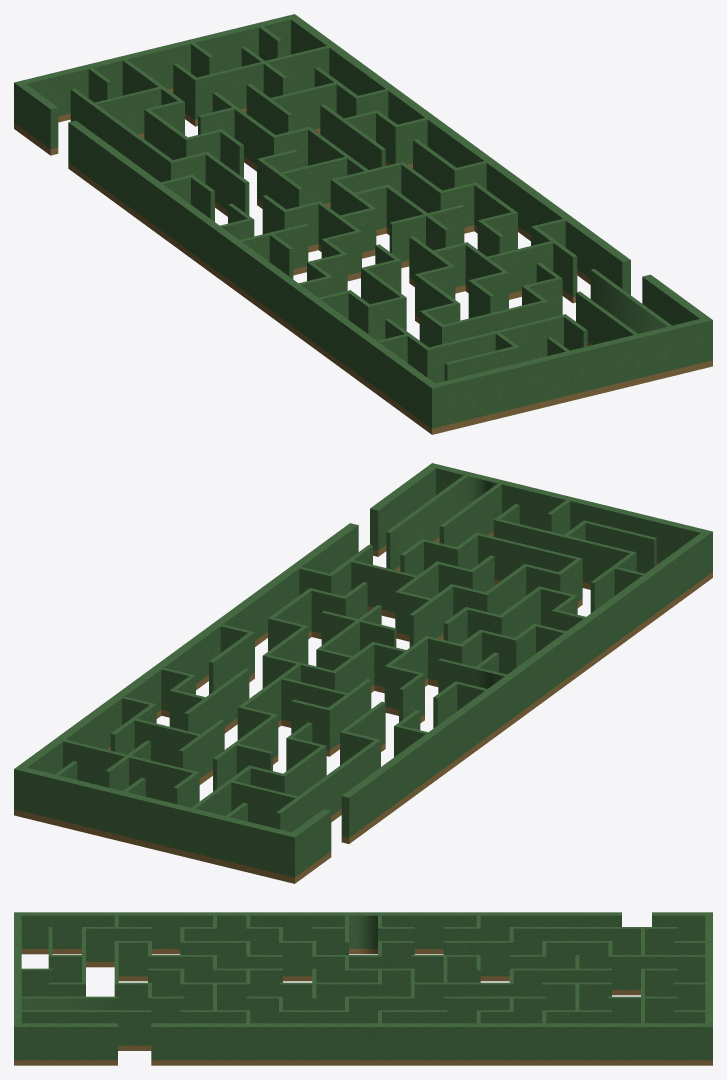
The model's file is maze 5.glb.
3 renders of one model, top to bottom at view 1: azimuth 30°, elevation 25°; view 2: azimuth 150°, elevation 25°; view 3: azimuth 270°, elevation 25°, orthographic. The views are drawn at different scales.
Visible parts, largest first — view 1: maze_5; view 2: maze_5; view 3: maze_5.
Boxes of the visible parts, <box> form: maze_5: <box>14,14,712,434</box>; maze_5: <box>14,463,712,883</box>; maze_5: <box>14,912,712,1065</box>.
Size of what is drawn, in the model's own units: 26.77 by 4.22 by 69.04.
Materials: 2 (1 with a texture image).
